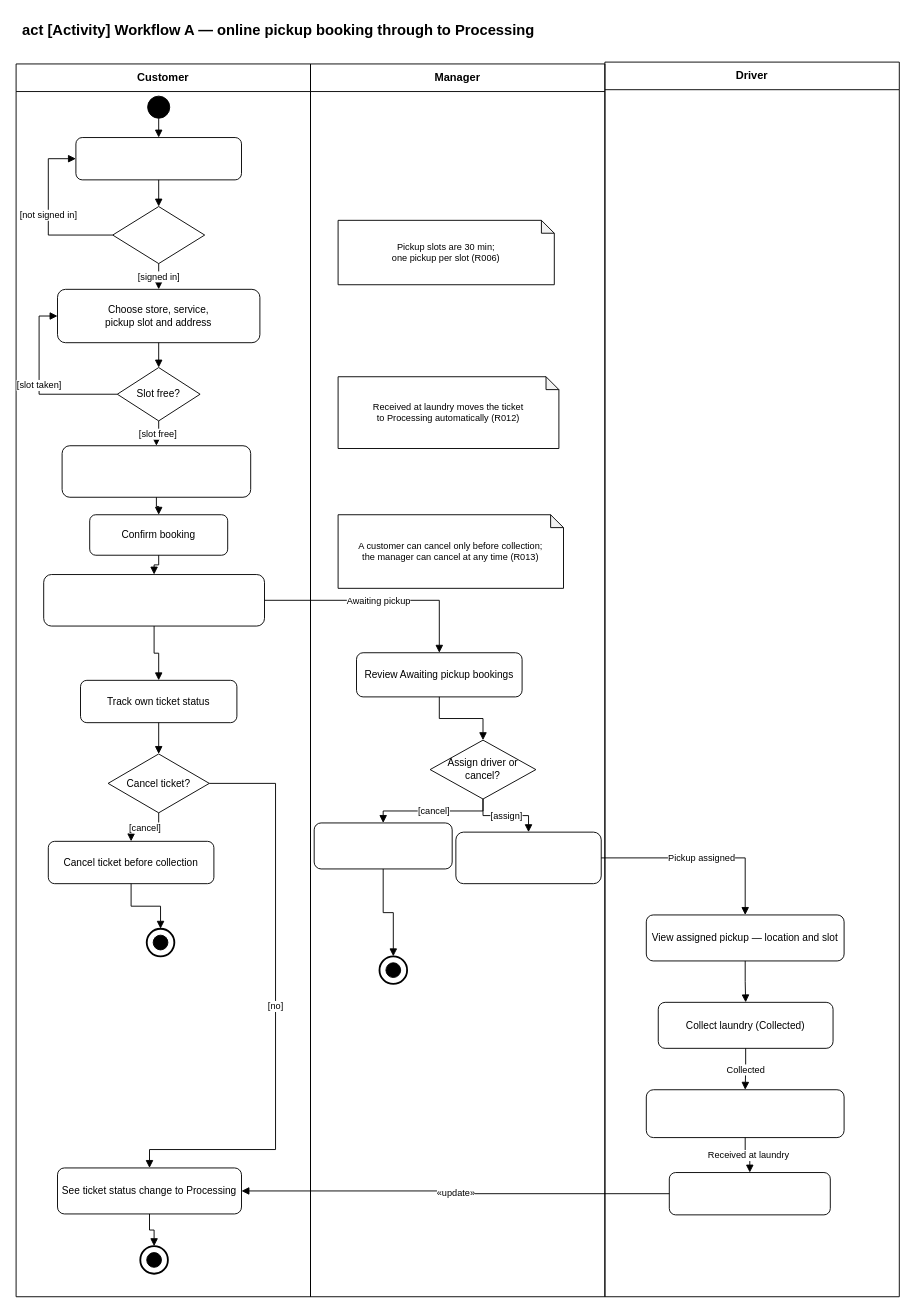
This 915x1313 diagram has some shape labels left out. Each missing label, with the centre of its shape:
Assign driver: Pickup assigned, booking confirmed: point (528, 857)
Cancel booking (logged): point (382, 845)
Choose return method: delivery (with a slot) or collection: point (156, 471)
Hand laundry in at the laundry (Received at laundry): point (744, 1113)
Open LSBS and sign in: point (158, 158)
Signed in?: point (158, 235)
Ticket issued: UUID, status Awaiting pickup: point (153, 600)
Ticket status: Processing (automatic): point (749, 1193)
